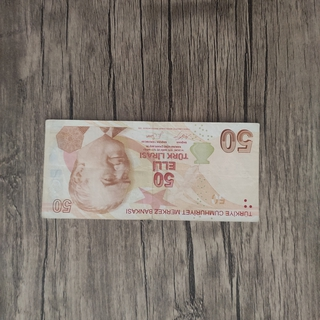50TLFront: (41, 119, 260, 223)
